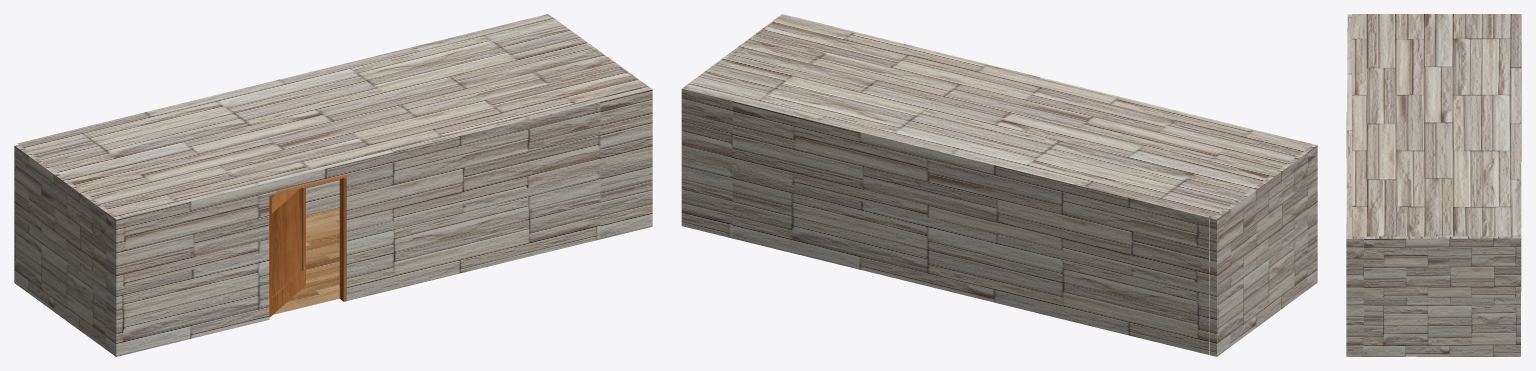
File: Cuarto_P.obj
3 views of the same model, side by side, from view 1: azimuth 30°, elevation 25°; view 2: azimuth 150°, elevation 25°; view 3: azimuth 270°, elevation 25° (orthographic). The views are drawn at different scales.
Parts seen in each view (by area): view 1: Wall001, Plane004, PivotDoor003, Plane001; view 2: Wall001, Plane004; view 3: Plane004, Wall001.
Part boxes in pixels (x1,y1,x2,y2): Wall001: (14, 20, 652, 356); Plane004: (17, 14, 646, 215); PivotDoor003: (269, 169, 346, 317); Plane001: (273, 207, 339, 314); Wall001: (681, 14, 1317, 356); Plane004: (683, 15, 1312, 217); Plane004: (1352, 14, 1521, 236); Wall001: (1346, 14, 1521, 356).
Size of the model in its own units: 392 by 97 by 129.
Materials: 5 (5 with a texture image).
